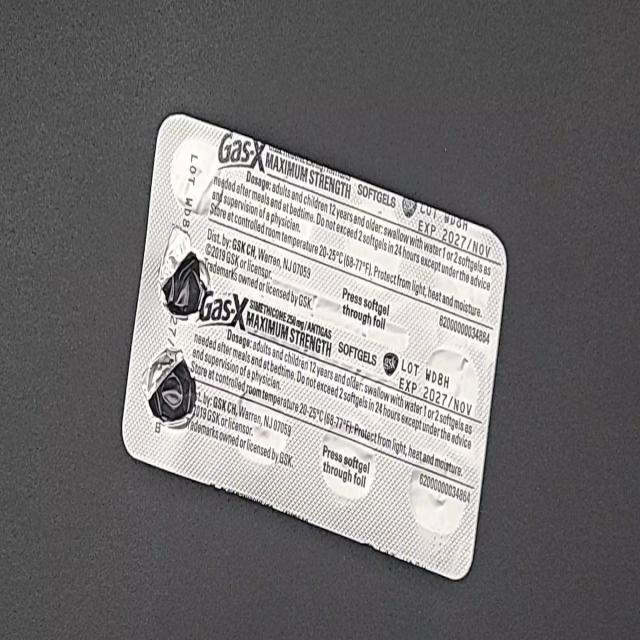defect: (156, 220, 211, 324), (138, 345, 198, 434)
